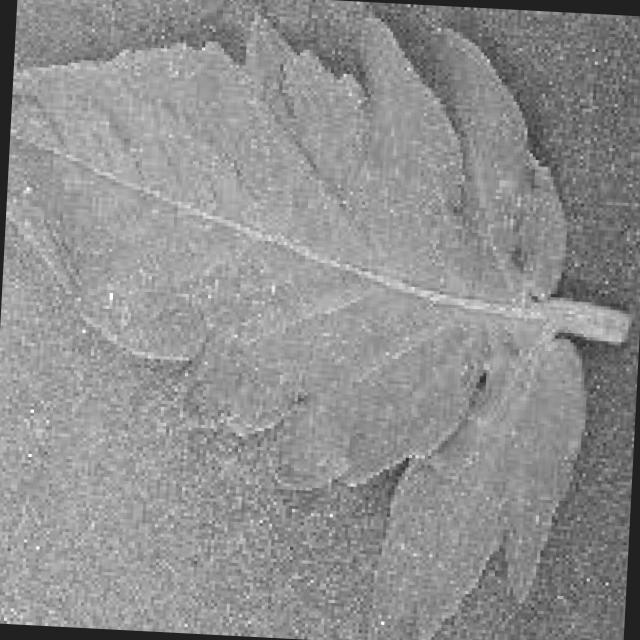healthy: (5, 1, 627, 640)
